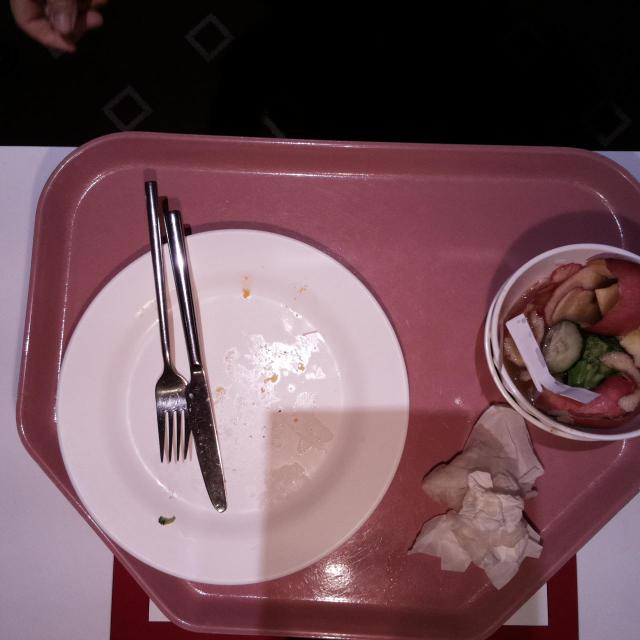Apple-peel: (540, 376, 638, 428), (580, 258, 638, 334)
Vegetable: (542, 318, 608, 388)
